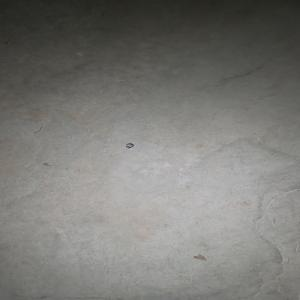Nut: (126, 143, 135, 148)
